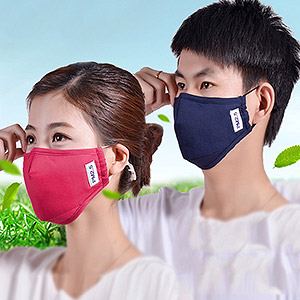face_mask: (22, 95, 107, 208), (172, 42, 254, 155)
